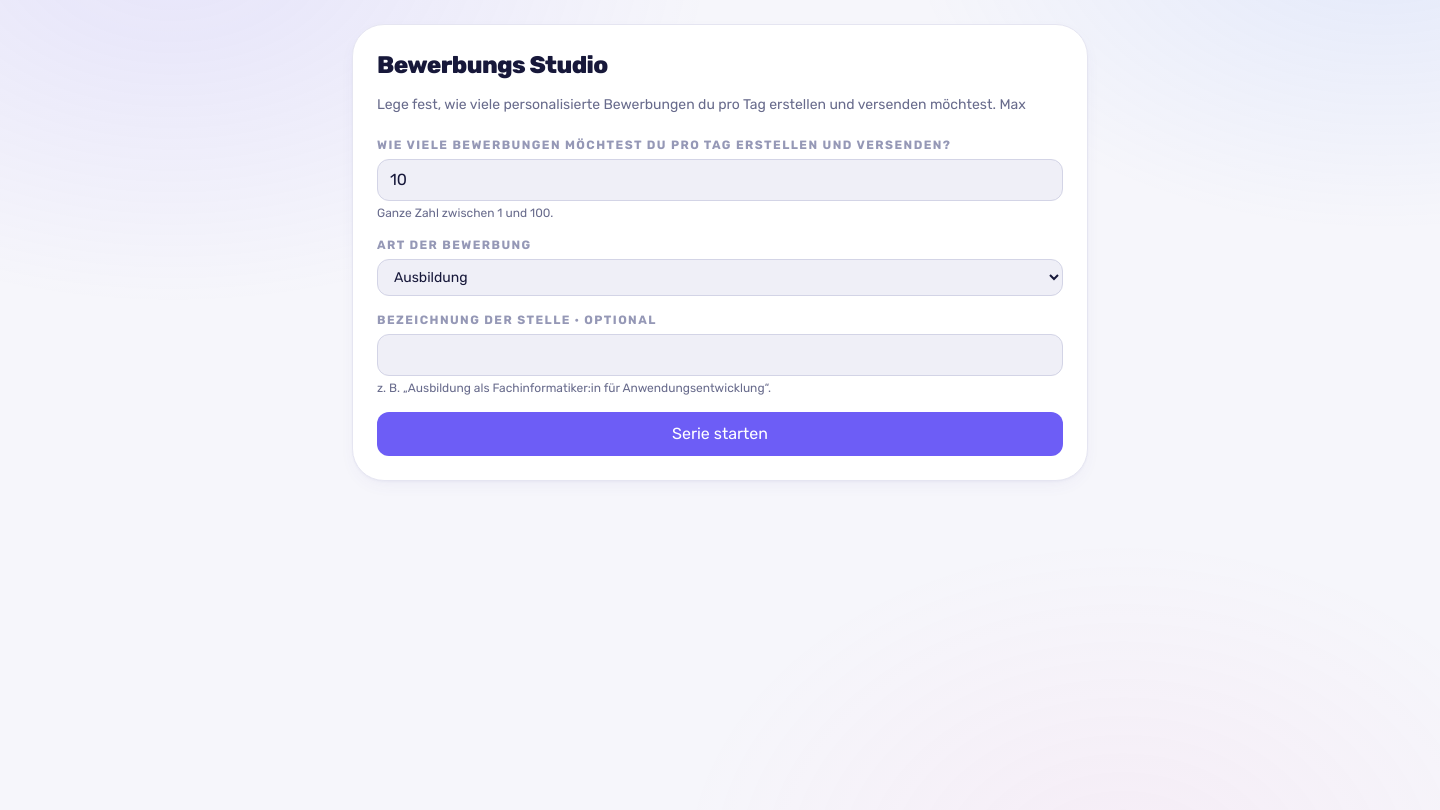
Test: submitting the form › a valid submit creates the series once and shows the wizard
Replace the text in the number field labelled "Wie viele Bewerbungen" with "5": (720, 180) [377, 159, 1063, 201]
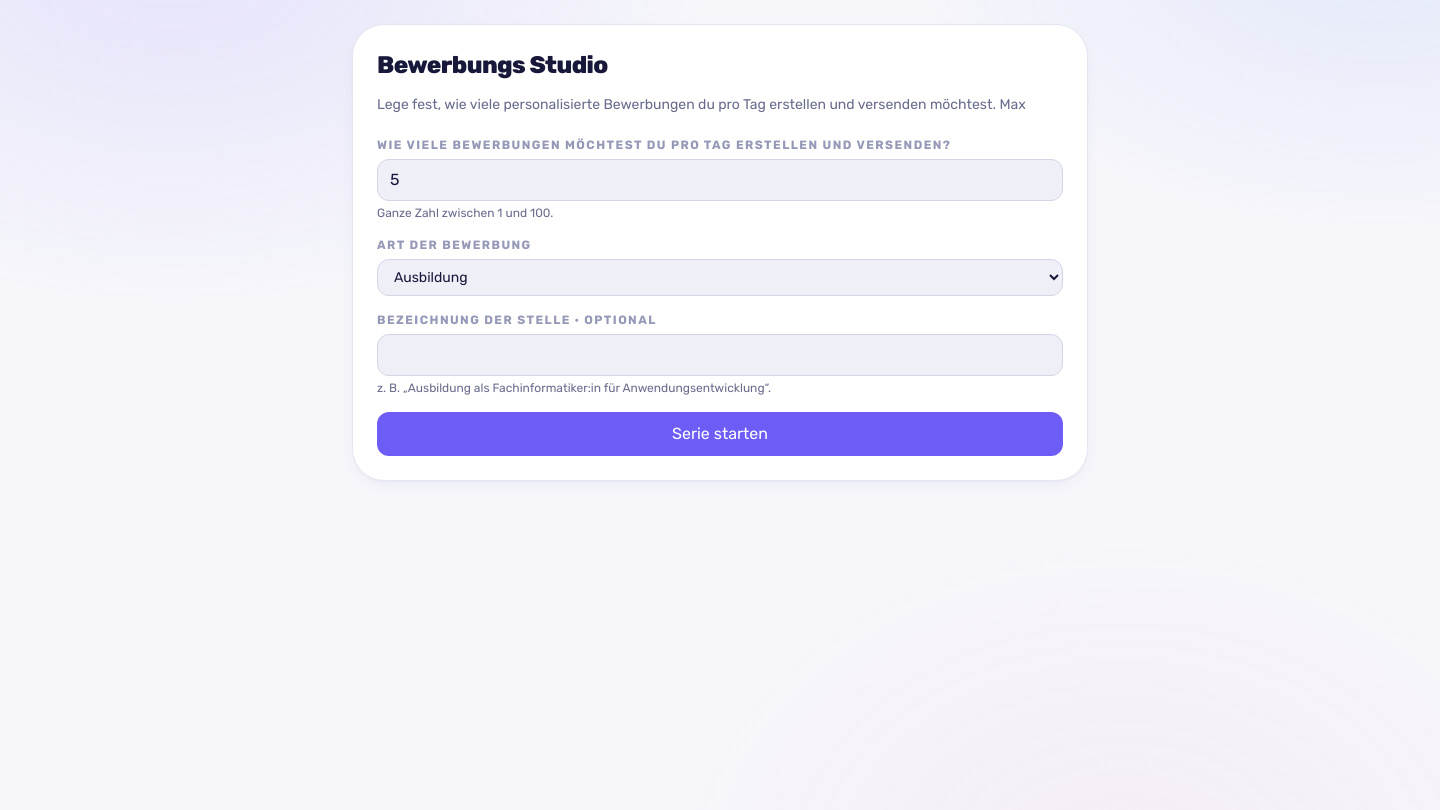
Select "Arbeit / Stelle" in the dropdown labelled "Art der Bewerbung": (720, 278) [377, 259, 1063, 296]
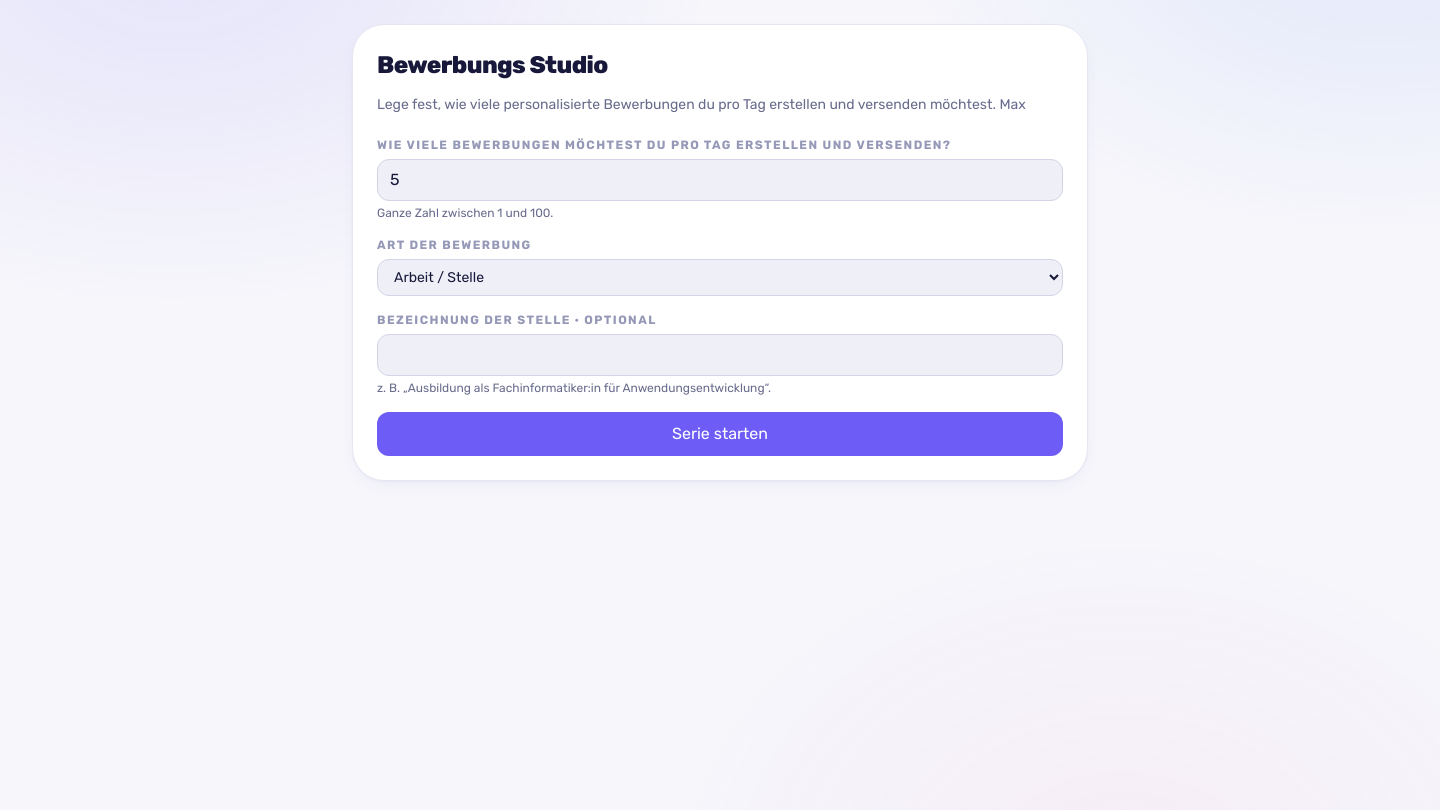
In the field labelled "Bezeichnung der Stelle · optional": (720, 355) [377, 334, 1063, 376], type "Mechatroniker"
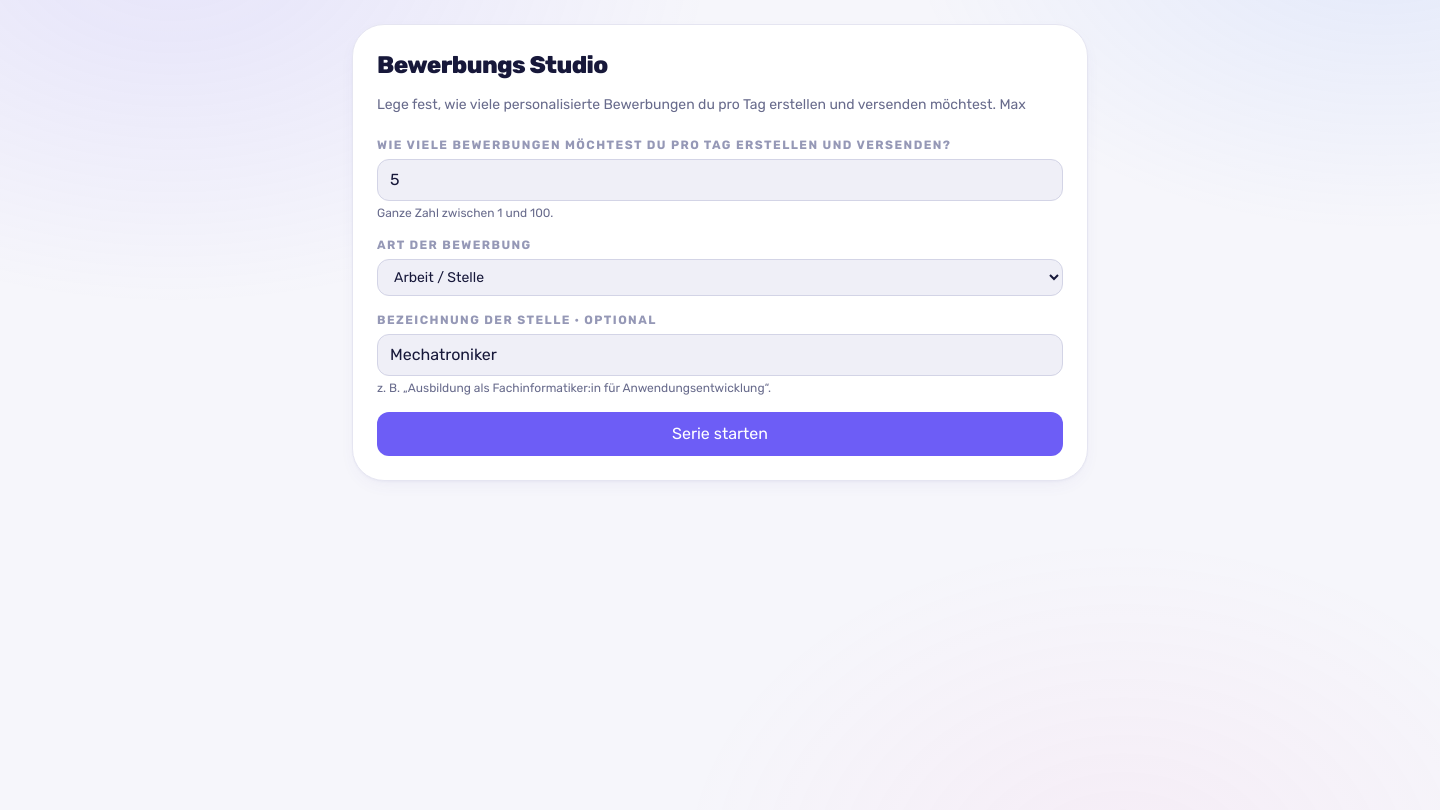
Click the button "Serie starten": (720, 434) [377, 412, 1063, 456]
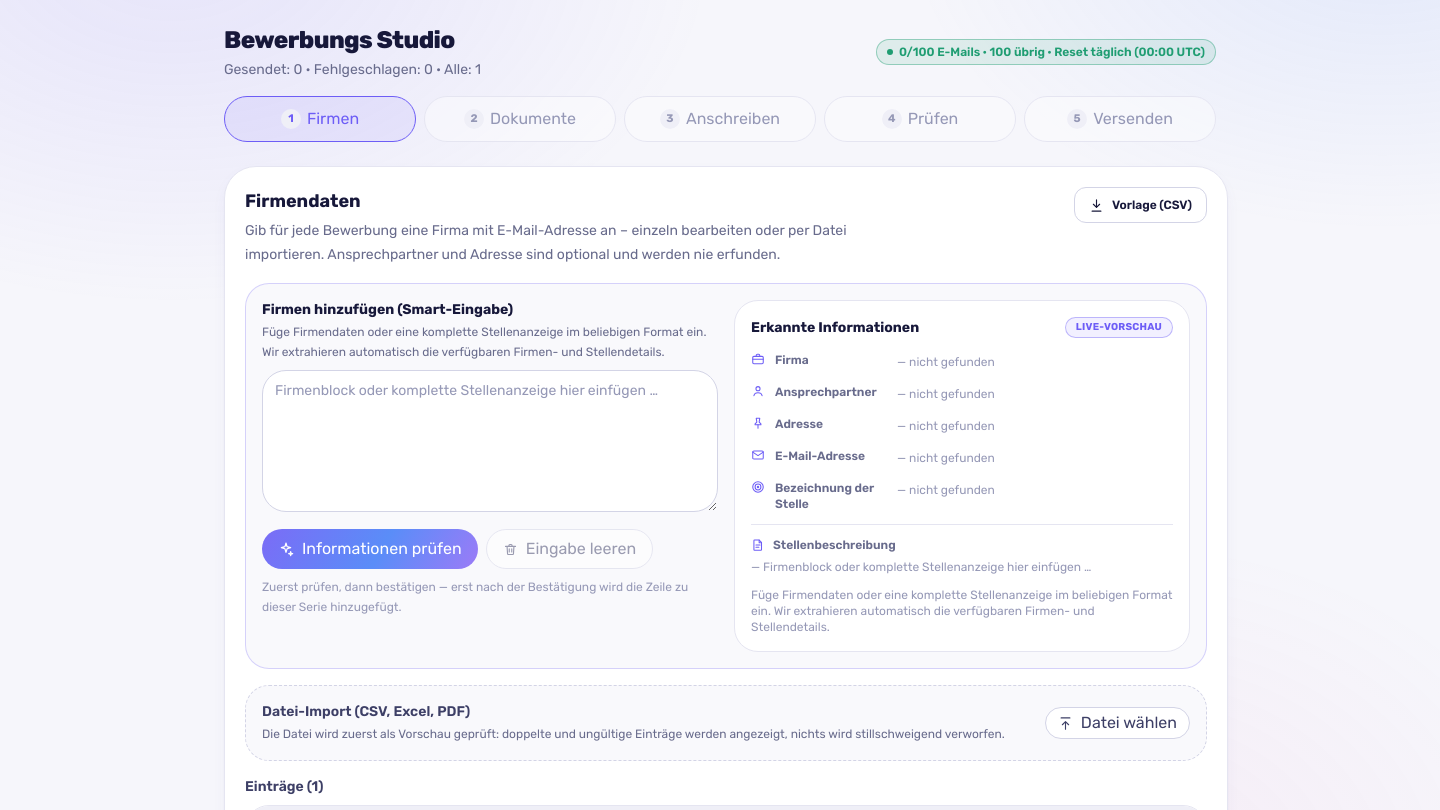
expect the text box with id "bew-smart-input" is shown: met, box [262, 370, 718, 512]
expect the label with id "bew-count" is gone: met
